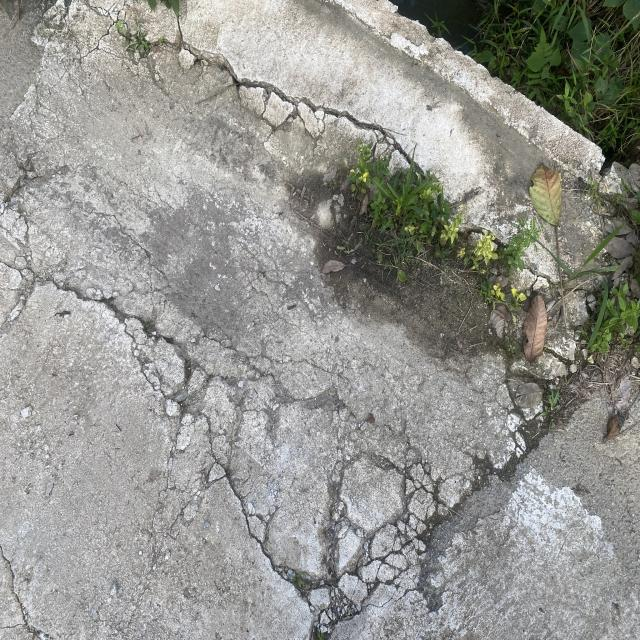Pothole: (105, 285, 421, 640), (146, 7, 404, 199)
